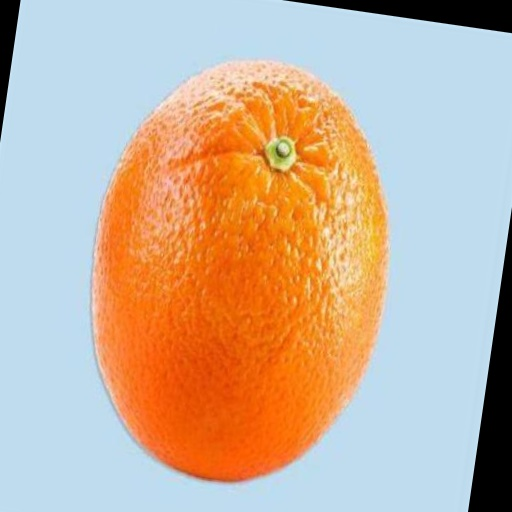fruit: (92, 61, 387, 480)
